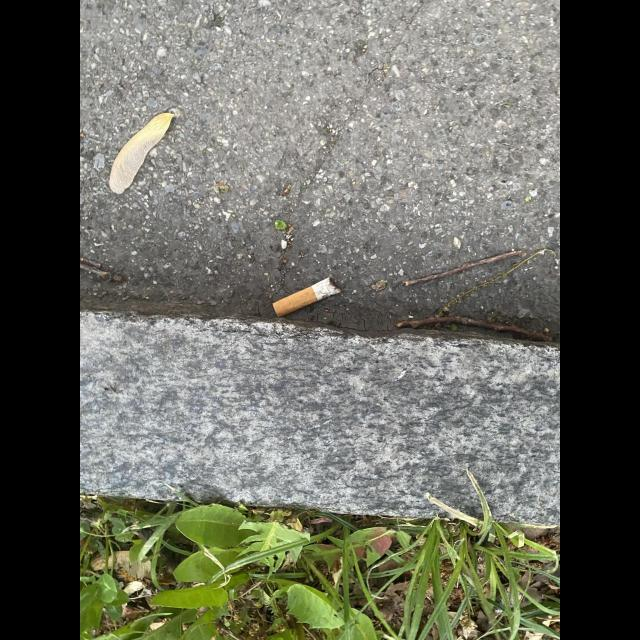cigarette: (272, 277, 342, 317)
